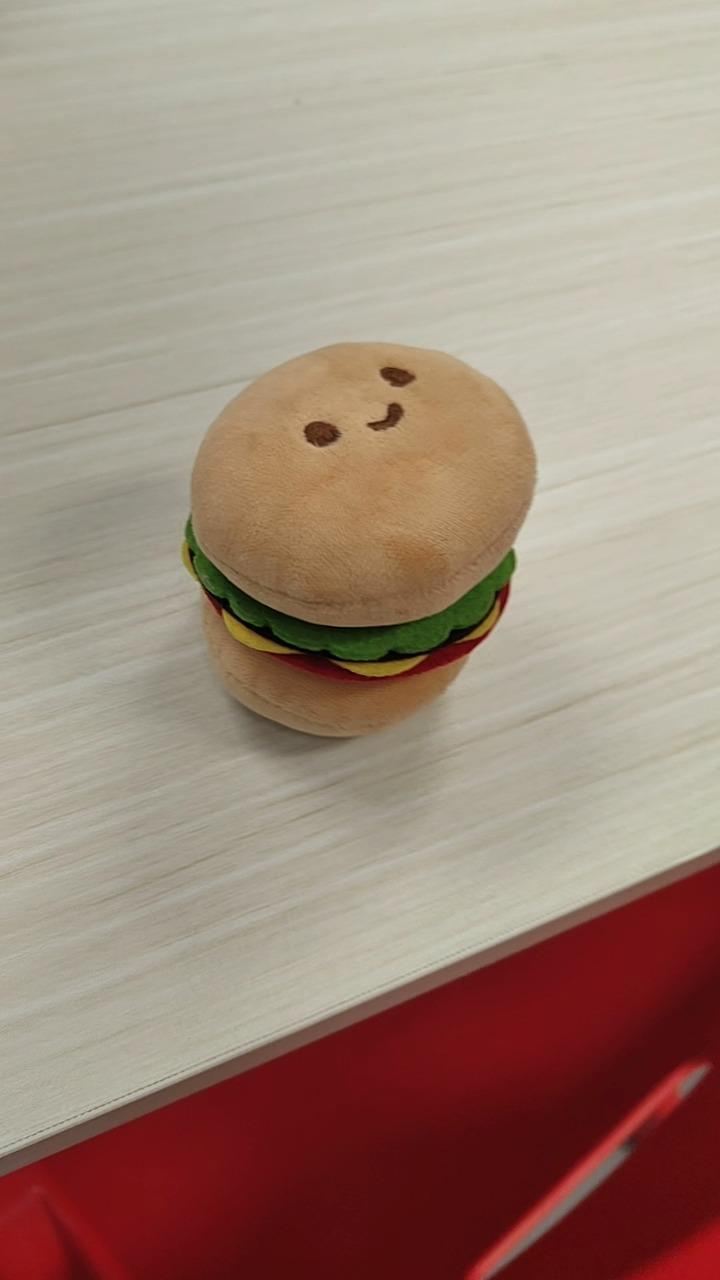hamburger: (180, 339, 538, 740)
